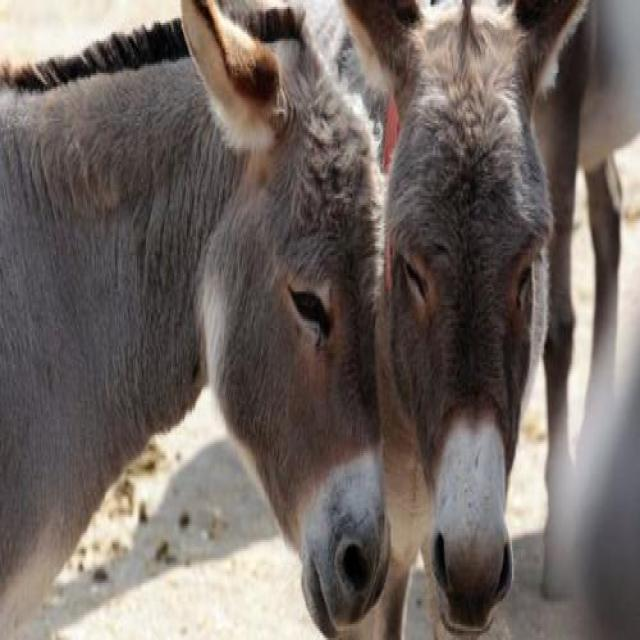Donkey: (0, 0, 389, 640), (342, 0, 587, 640), (481, 0, 639, 601)
